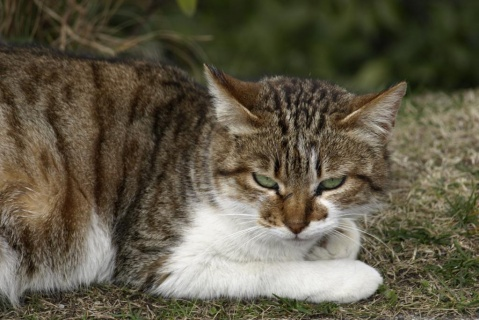Cat: (0, 39, 409, 312)
